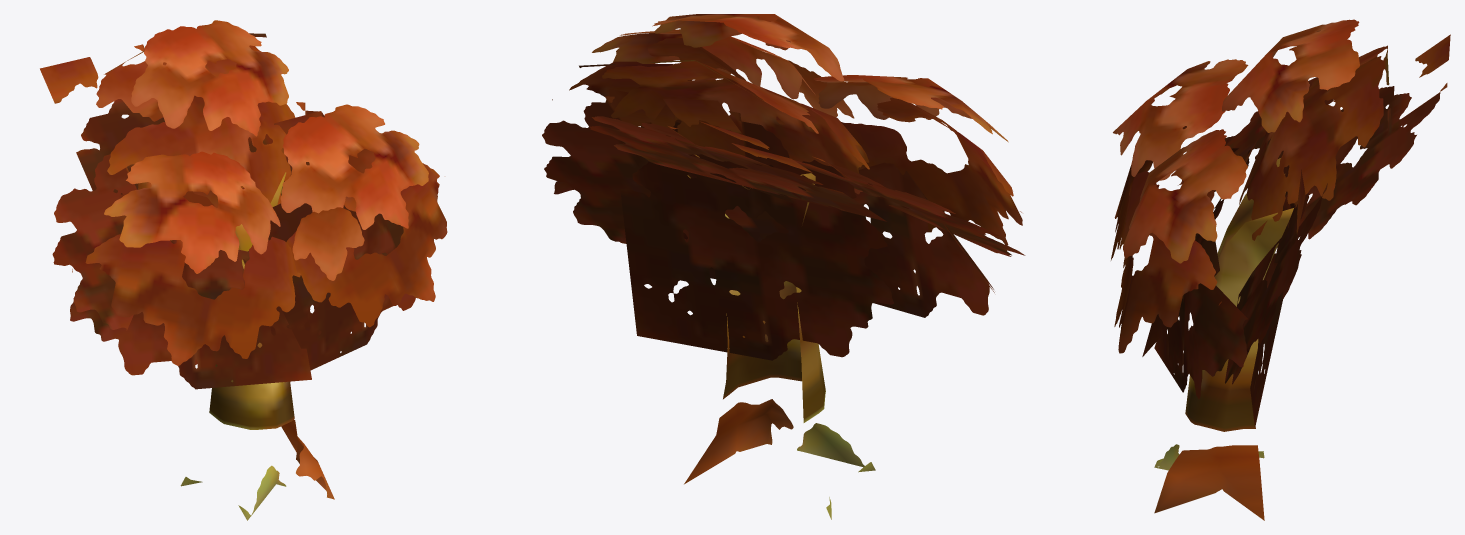
Rendered from fg_treeA_2.dae.
The picture shows the model from 3 angles, left to right: view 1: azimuth 30°, elevation 25°; view 2: azimuth 150°, elevation 25°; view 3: azimuth 270°, elevation 25°; orthographic projection. The views are drawn at different scales.
Parts seen in each view (by area): view 1: vsn_mesh_0_; view 2: vsn_mesh_0_; view 3: vsn_mesh_0_.
Boxes of the visible parts, x1,y1,x2,y2 form: vsn_mesh_0_: (40, 20, 447, 520); vsn_mesh_0_: (542, 14, 1025, 519); vsn_mesh_0_: (1111, 19, 1450, 520).
Bounding box in the file's own units: 52.02 × 53.23 × 37.82.
